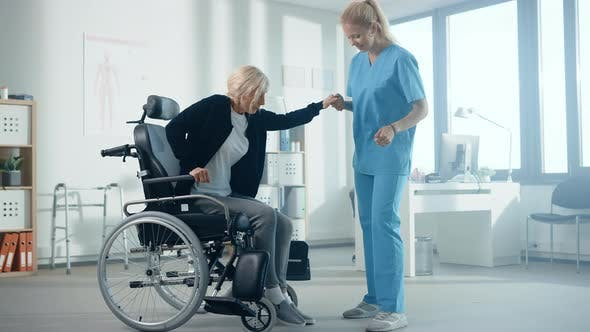wheelchair: (97, 64, 338, 332)
